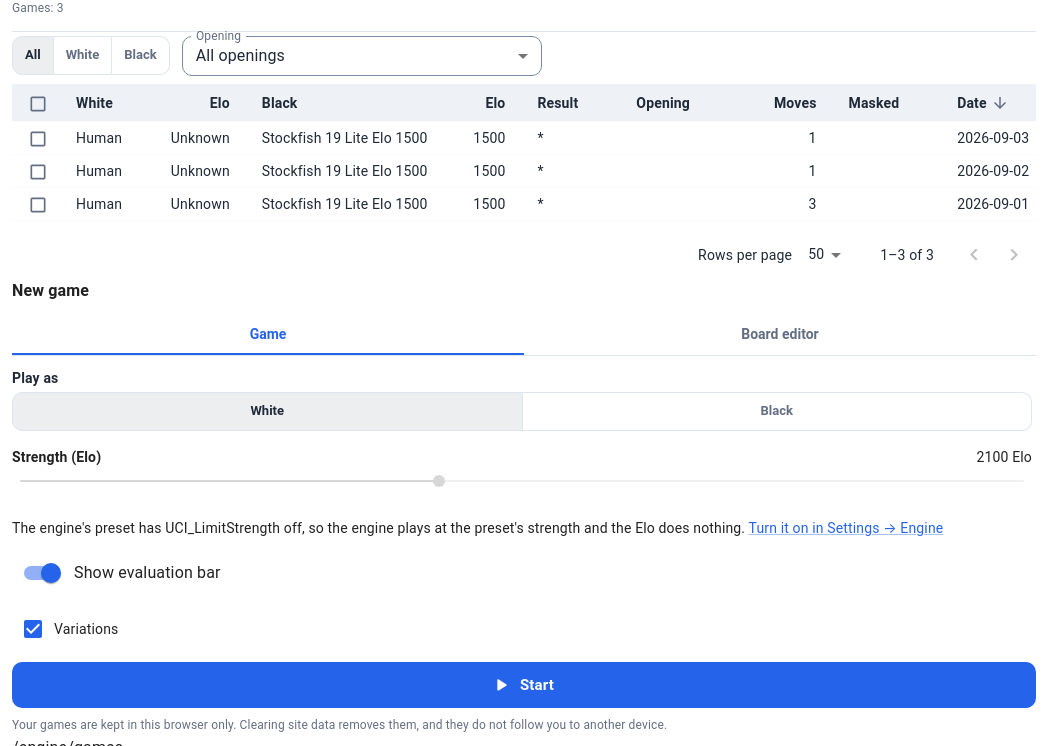
Lobby — the table (CTA-100) › opens newest first; a click on a header sorts by it, and a second turns it
Click the button with test id "played-games-sort-moves". click: click(795, 103)
box: top-left (774, 95), bottom-right (816, 111)
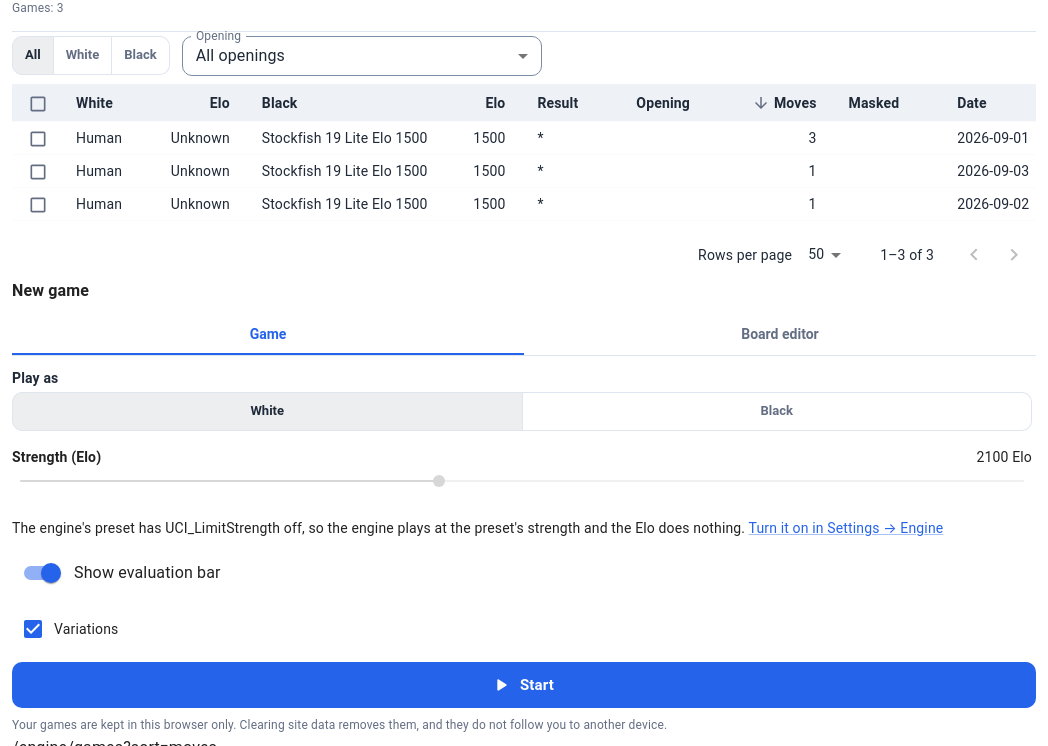
Click the button with test id "played-games-sort-moves". click: click(782, 103)
box: top-left (748, 91), bottom-right (816, 115)
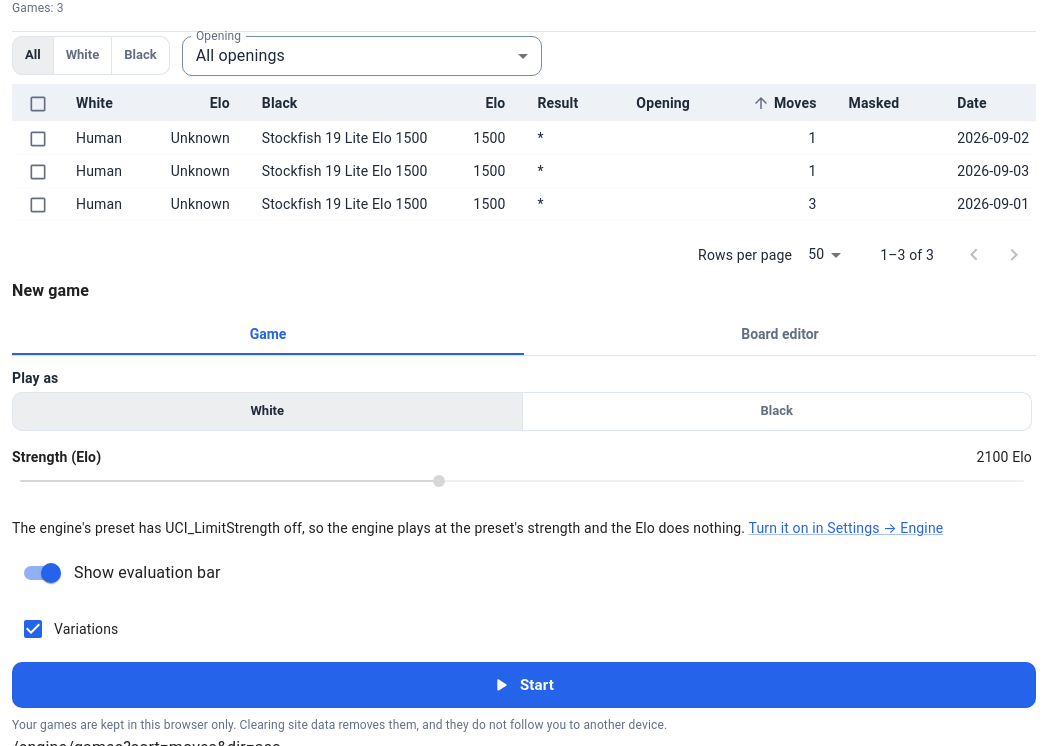
Click the button with test id "played-games-sort-moves". click: click(782, 103)
box: top-left (748, 91), bottom-right (816, 115)
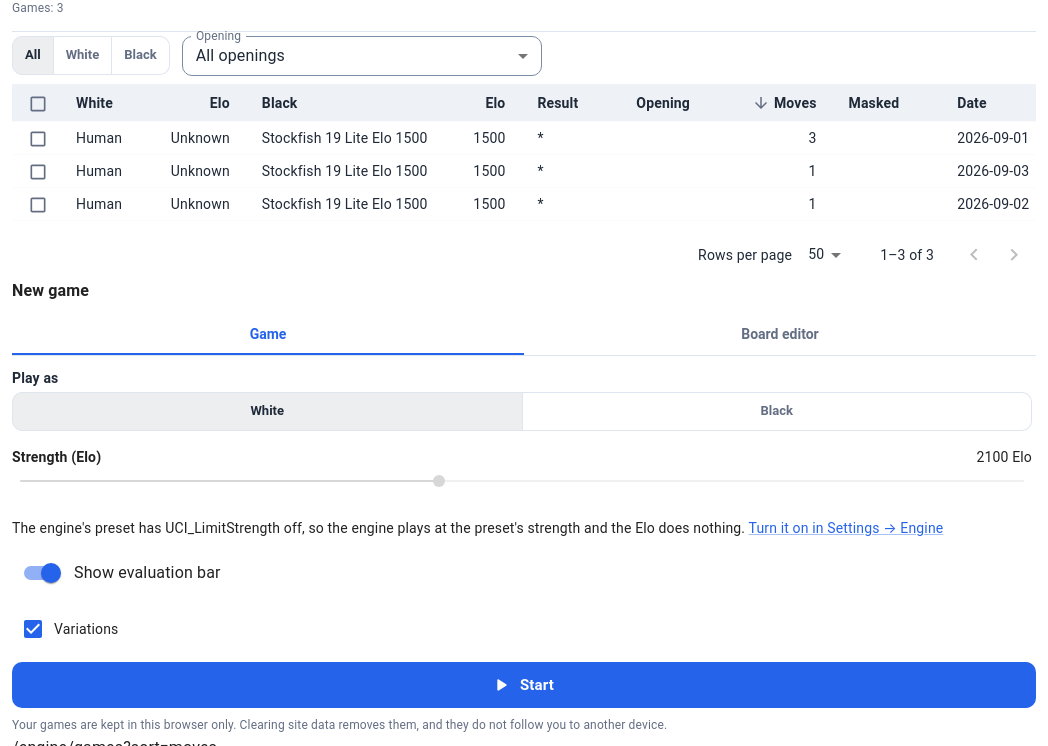
Click the button with test id "played-games-sort-date". click: click(972, 103)
box: top-left (957, 95), bottom-right (987, 111)
(page scrolled)
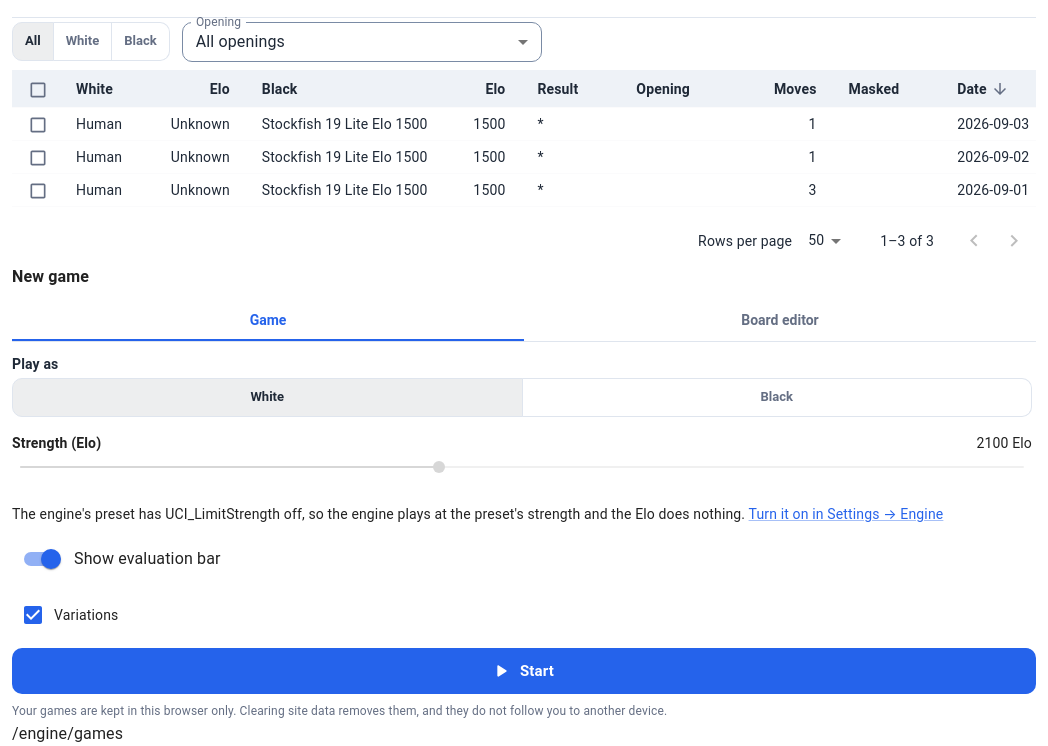
Expected: the text with test id "where" reads "/engine/games", top-left (12, 724), bottom-right (123, 743)
